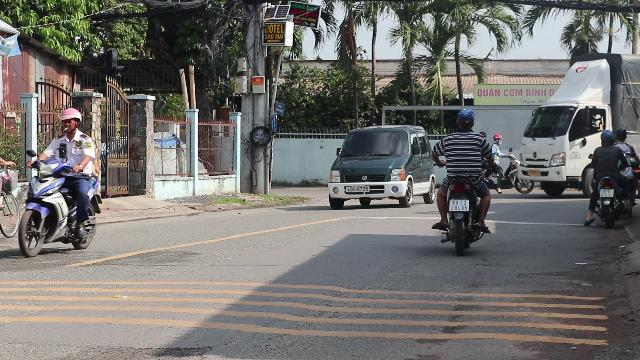helmet: (58, 107, 82, 135), (600, 129, 614, 145)
licenseplate: (449, 200, 468, 210), (600, 189, 614, 197)
motorcyclist: (15, 106, 104, 256), (428, 107, 496, 253), (582, 128, 638, 228)
nohelmet: (454, 108, 474, 130)
